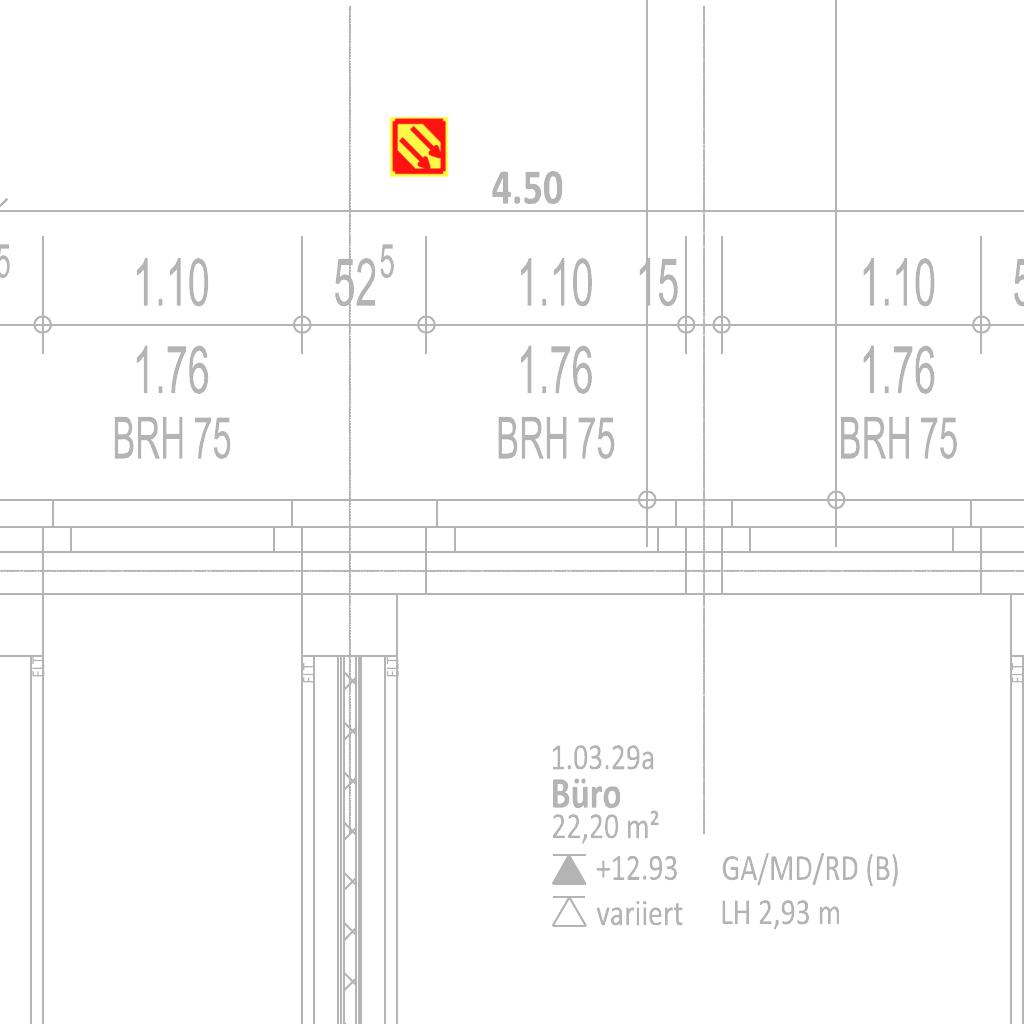ASR_Ansaugrauchmelder: (388, 116, 450, 178)
